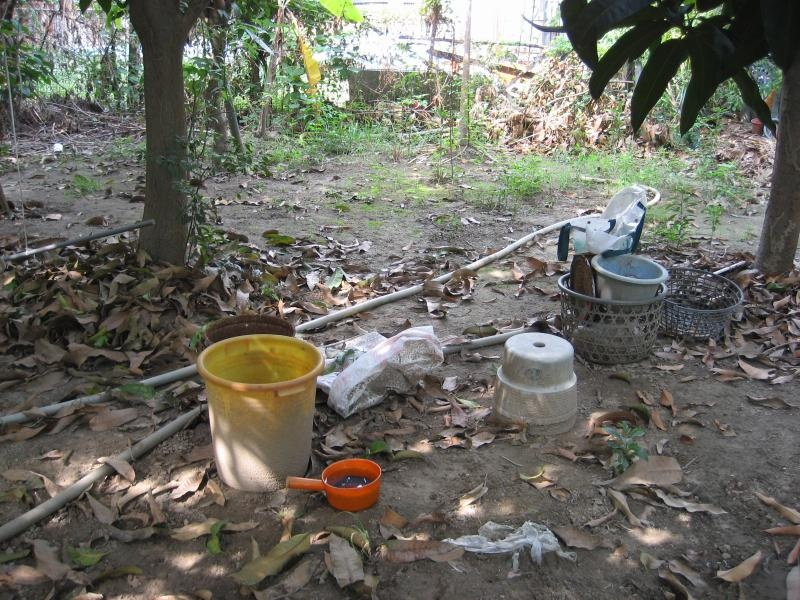bowl: (321, 458, 381, 513)
bucket: (194, 332, 327, 497), (589, 249, 670, 303)
plastic_bag: (318, 323, 446, 420)
